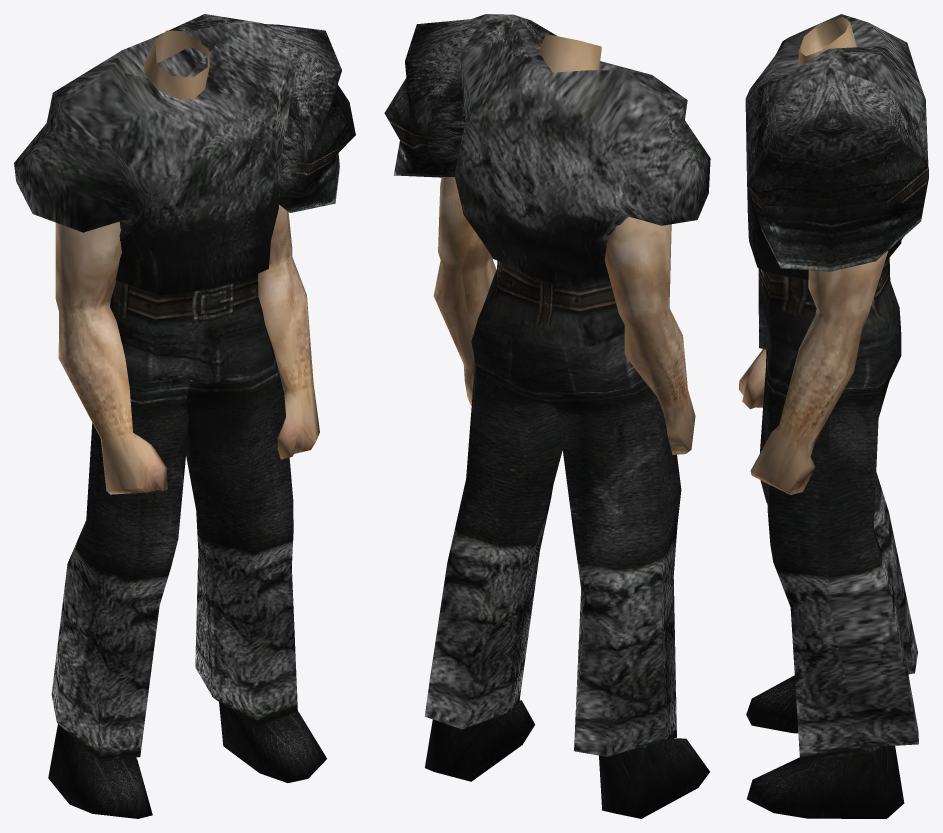
File: ARMOR_OGAR.glb
3 views of the same model, side by side, from view 1: azimuth 30°, elevation 25°; view 2: azimuth 150°, elevation 25°; view 3: azimuth 270°, elevation 25° (orthographic).
Visible parts, largest first — view 1: ARMOR_OGAR; view 2: ARMOR_OGAR; view 3: ARMOR_OGAR.
Part boxes in pixels (x1,y1,x2,y2): ARMOR_OGAR: [14, 14, 355, 818]; ARMOR_OGAR: [384, 14, 710, 818]; ARMOR_OGAR: [739, 14, 928, 818].
Bounding box in the file's own units: 0.7213 × 1.68 × 0.3885.
2 materials, 2 textured.
